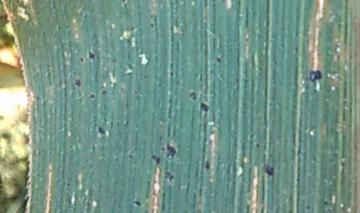tarspot: (164, 142, 177, 160), (262, 161, 275, 177), (308, 69, 322, 83), (198, 100, 210, 113), (149, 153, 161, 166), (163, 170, 175, 182), (173, 14, 181, 30), (96, 125, 108, 135), (86, 50, 96, 60), (188, 90, 197, 101), (203, 159, 211, 171), (130, 199, 142, 207), (72, 78, 82, 87), (77, 55, 85, 64), (125, 62, 133, 71), (215, 54, 222, 64), (279, 40, 286, 50), (166, 124, 171, 137), (322, 199, 329, 208), (88, 93, 96, 100), (202, 1, 209, 9), (160, 145, 165, 155), (254, 142, 261, 149), (126, 153, 133, 160), (168, 70, 175, 77), (100, 89, 107, 96), (148, 22, 155, 29), (142, 73, 149, 80), (304, 203, 310, 211), (34, 94, 40, 102), (129, 25, 135, 32), (115, 121, 120, 128), (158, 135, 162, 142), (66, 181, 70, 187), (121, 1, 127, 4)
